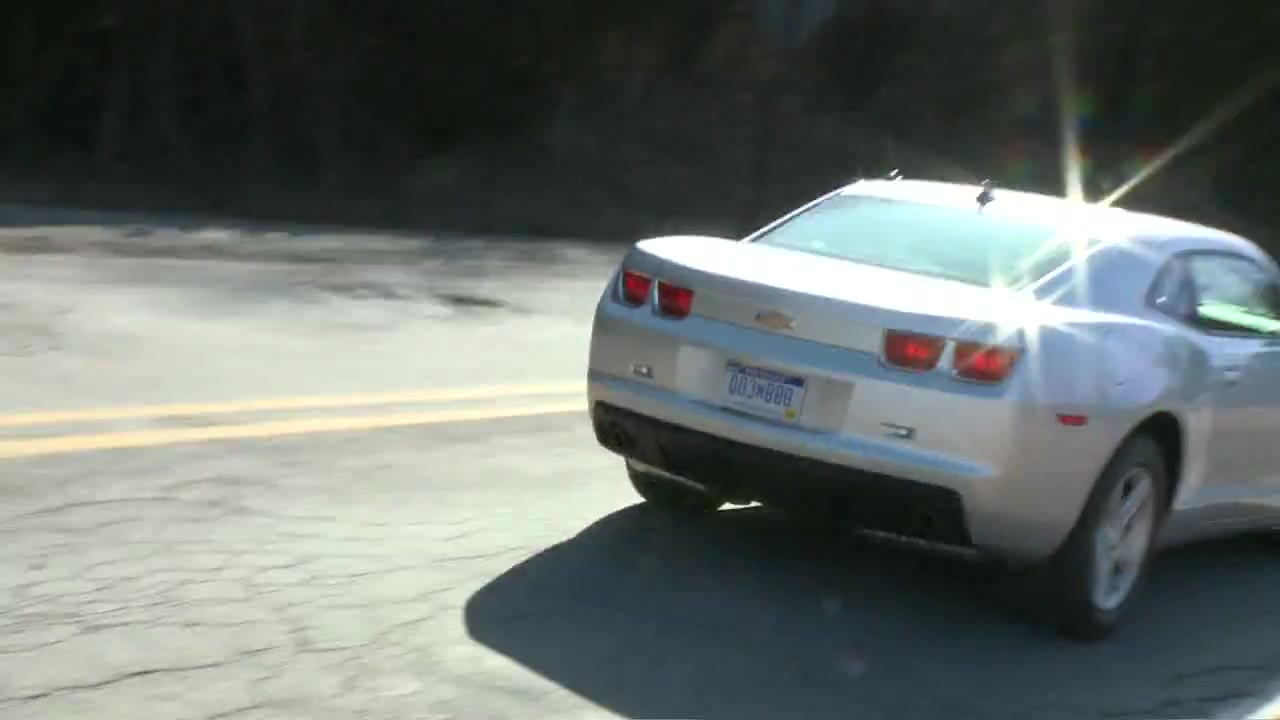car: (587, 166, 1280, 638)
